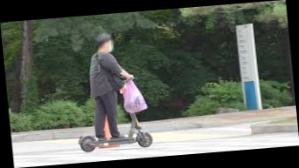helmet: (65, 29, 156, 154)
